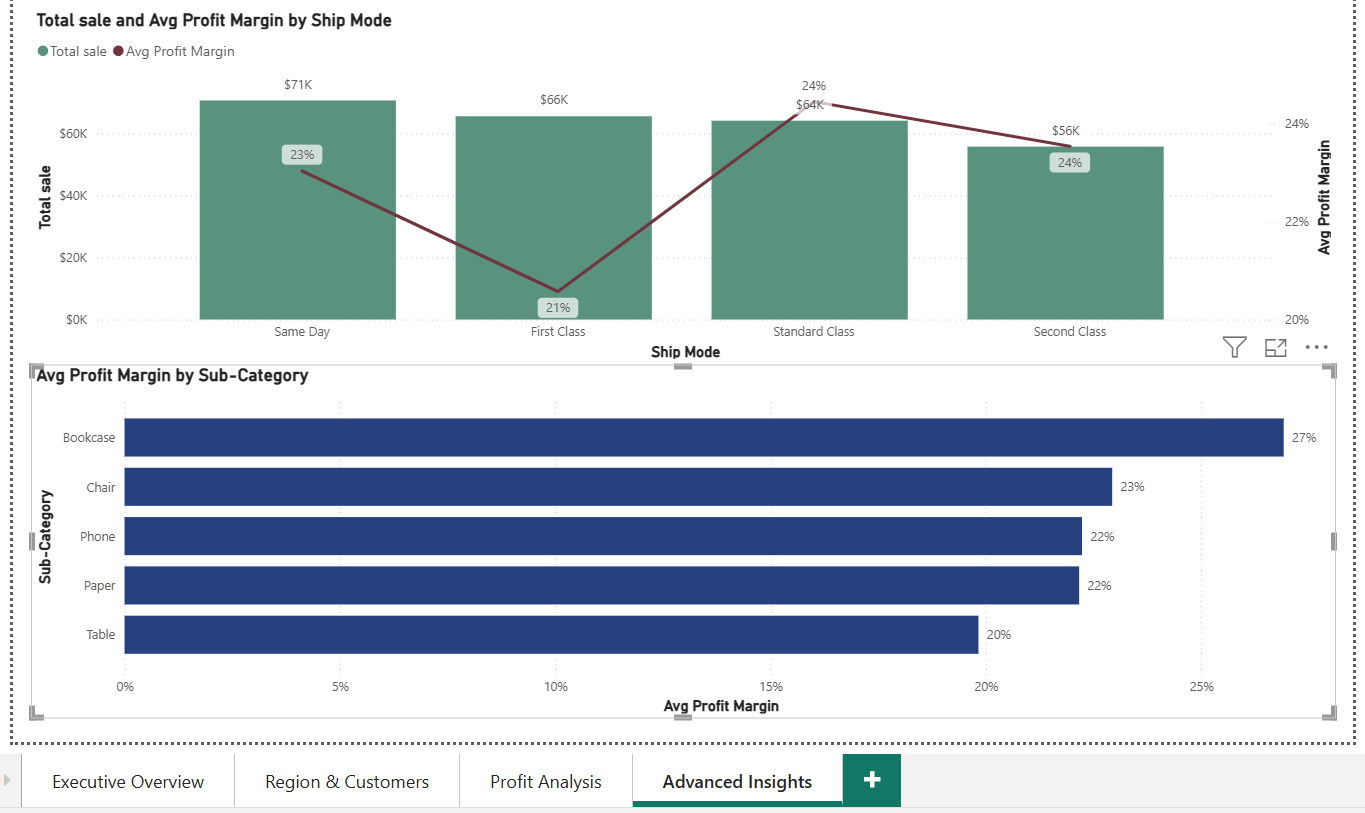

The page's visual inventory and layout, read from the dashboard file:
{"tool":"powerbi","page":{"name":"Advanced Insights","canvas":[1280,720],"ordinal":3},"visuals":[{"type":"lineStackedColumnComboChart","fields":{"Category":["Cleaned_Sales.Ship Mode"],"Y":["Measures_Tbl.Total sale"],"Y2":["Measures-Tbl.Profit Margin %"]},"box":[16.6,20.3,1246.2,339.2],"z":0},{"type":"clusteredBarChart","fields":{"Category":["Cleaned_Sales.Sub-Category"],"Y":["Measures-Tbl.Profit Margin %"]},"box":[17.2,359.5,1246.2,338],"z":1000}]}

Visuals, with their boxes on the page's 1280x720 design canvas (x1, y1, x2, y2). These are canvas units, not pixel positions in the 1365x813 screenshot, which may show the page scaled, cropped or inside an application window:
lineStackedColumnComboChart - Cleaned_Sales.Ship Mode x Measures_Tbl.Total sale: locate(17, 20, 1263, 360)
clusteredBarChart - Cleaned_Sales.Sub-Category x Measures-Tbl.Profit Margin %: locate(17, 360, 1263, 698)
